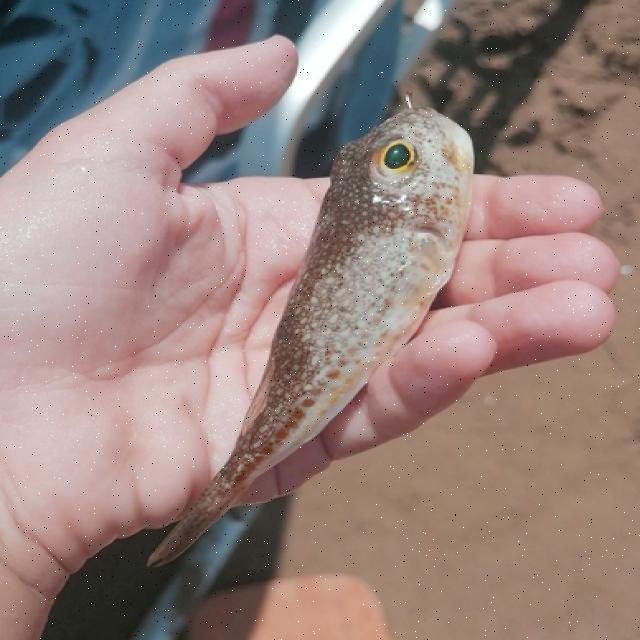Balik: (149, 100, 473, 565)
